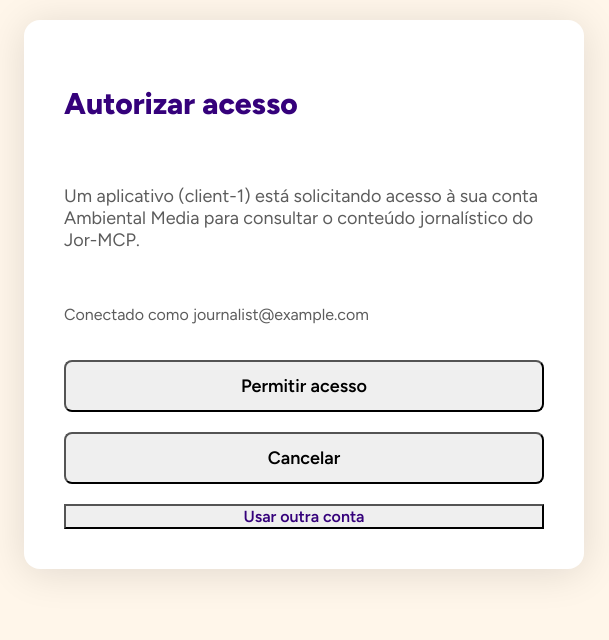
AuthorizePage › reports a failure when the approve request throws
The width and height of the screenshot is (609, 640).
Step 1. Click the button "Permitir acesso" → (304, 386), box [64,360,544,412]
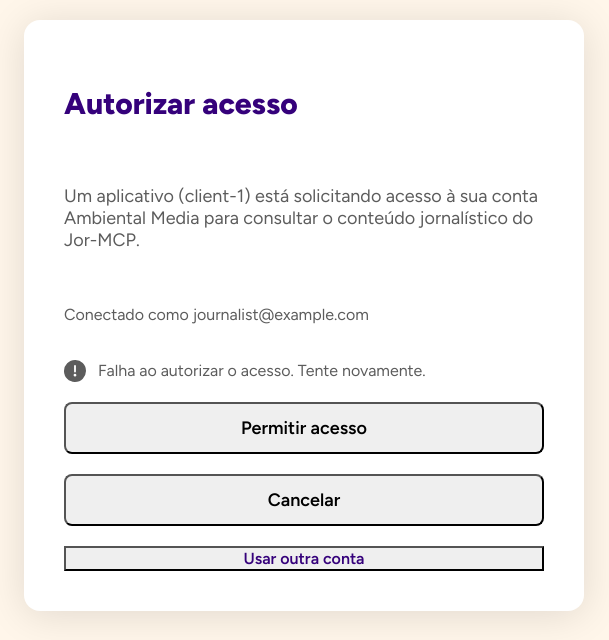
Expected: the text "Falha ao autorizar o acesso. Tente novamente." is shown, [64,360,426,382]
